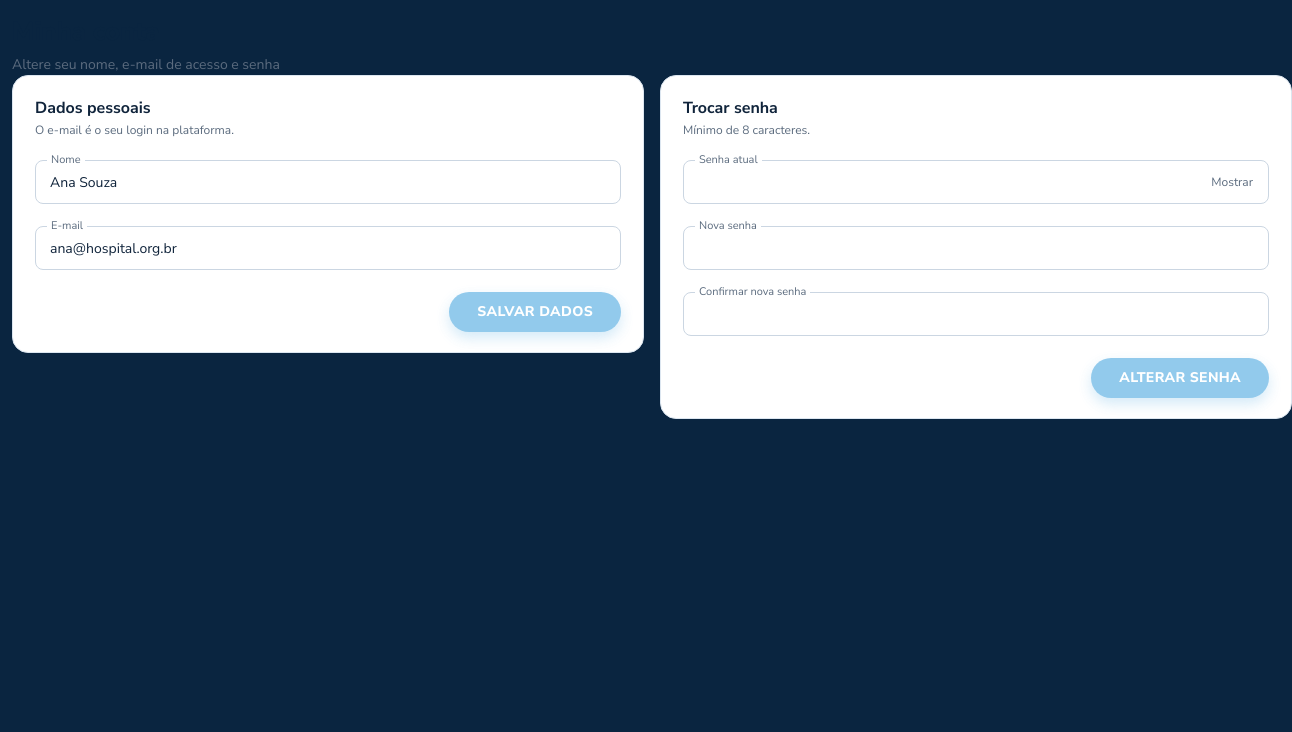
Test: Minha conta: dados pessoais › trocar só o nome não pede senha e atualiza o menu
This screenshot has width=1292, height=732.
Replace the text in the 1st field with "  Ana S. " at {"x": 328, "y": 182}, box [35, 160, 621, 204]
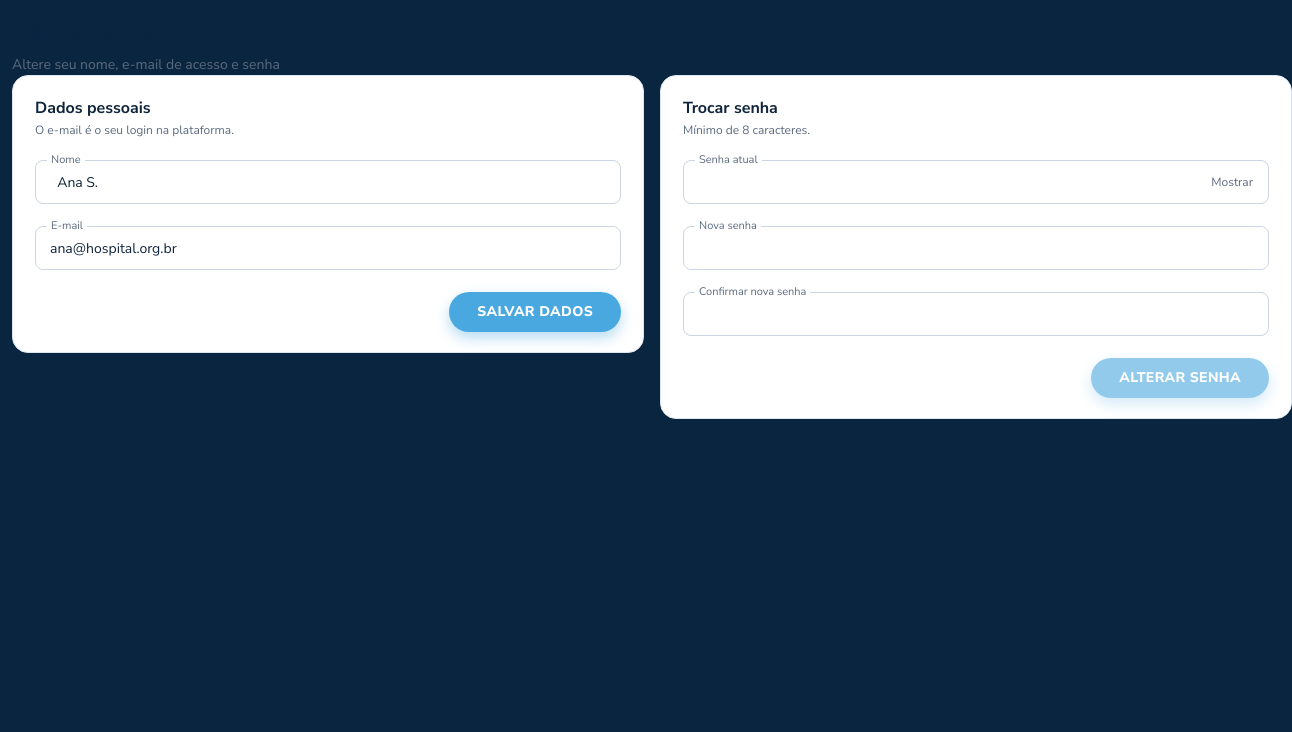
Click the button "SALVAR DADOS" at {"x": 535, "y": 312}, box [449, 292, 621, 332]
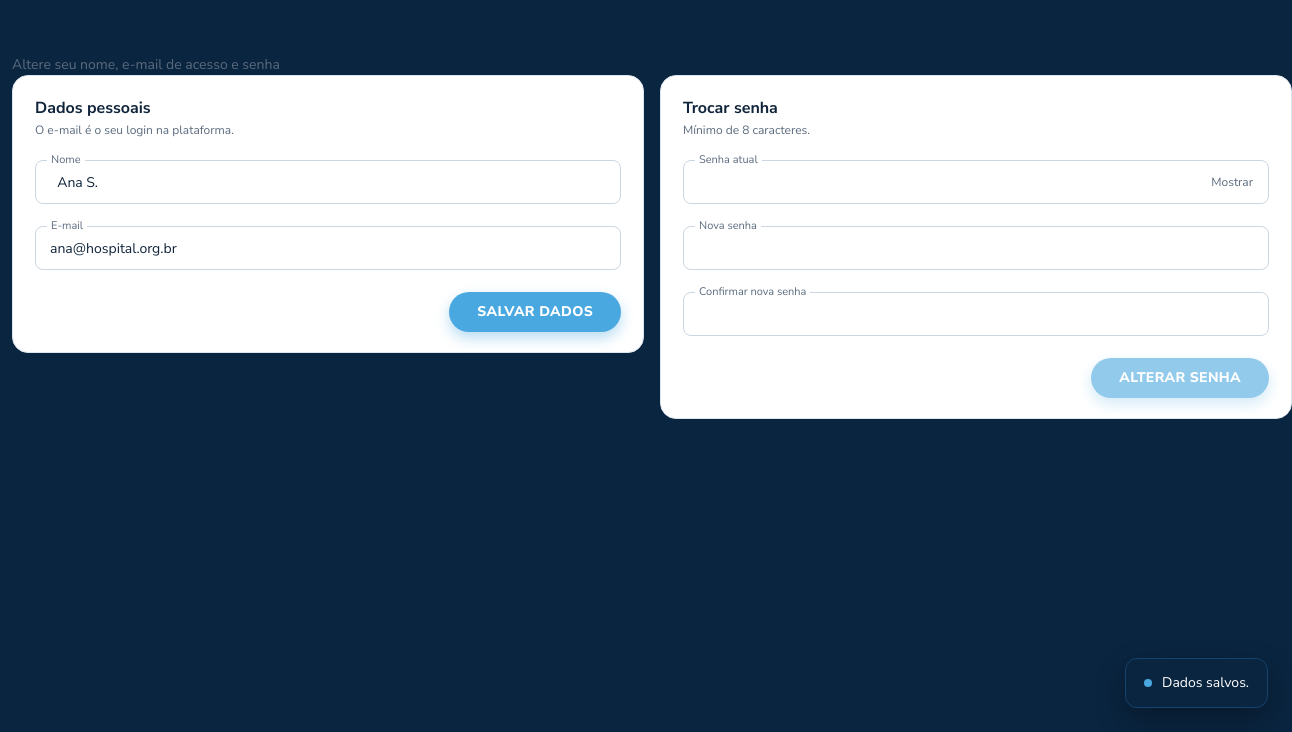
Expected: the message reads "Dados salvos.", [1162, 673, 1249, 692]
